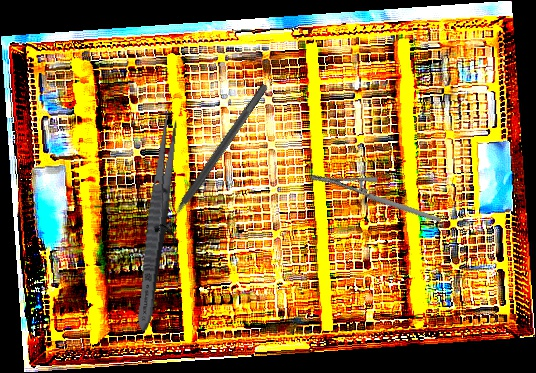Dressing Forceps: (132, 109, 182, 333)
Fixation Ring: (150, 77, 278, 246)
Needle Holder: (309, 139, 442, 259)
